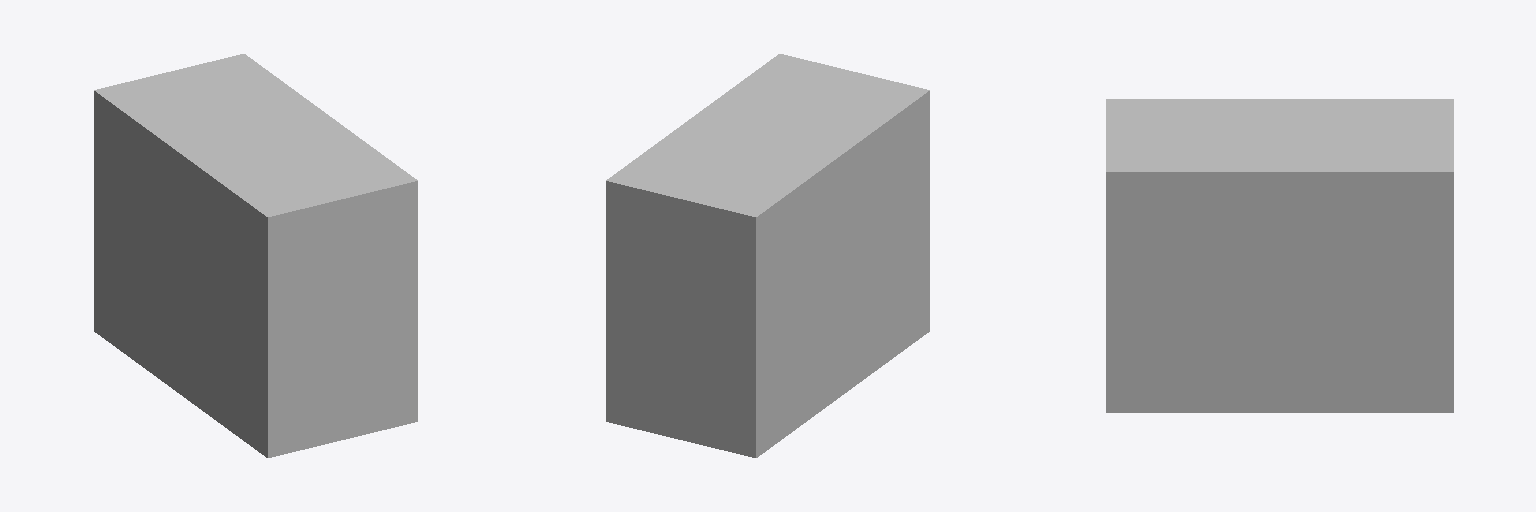
File: Scholar Head 2.obj
3 views of the same model, side by side, from view 1: azimuth 30°, elevation 25°; view 2: azimuth 150°, elevation 25°; view 3: azimuth 270°, elevation 25° (orthographic).
Visible parts, largest first — view 1: ObjObject; view 2: ObjObject; view 3: ObjObject.
Boxes of the visible parts, x1,y1,x2,y2 form: ObjObject: [94, 54, 417, 457]; ObjObject: [606, 54, 929, 457]; ObjObject: [1106, 99, 1453, 412].
Bounding box in the file's own units: 1.7 × 2.6 × 3.4.